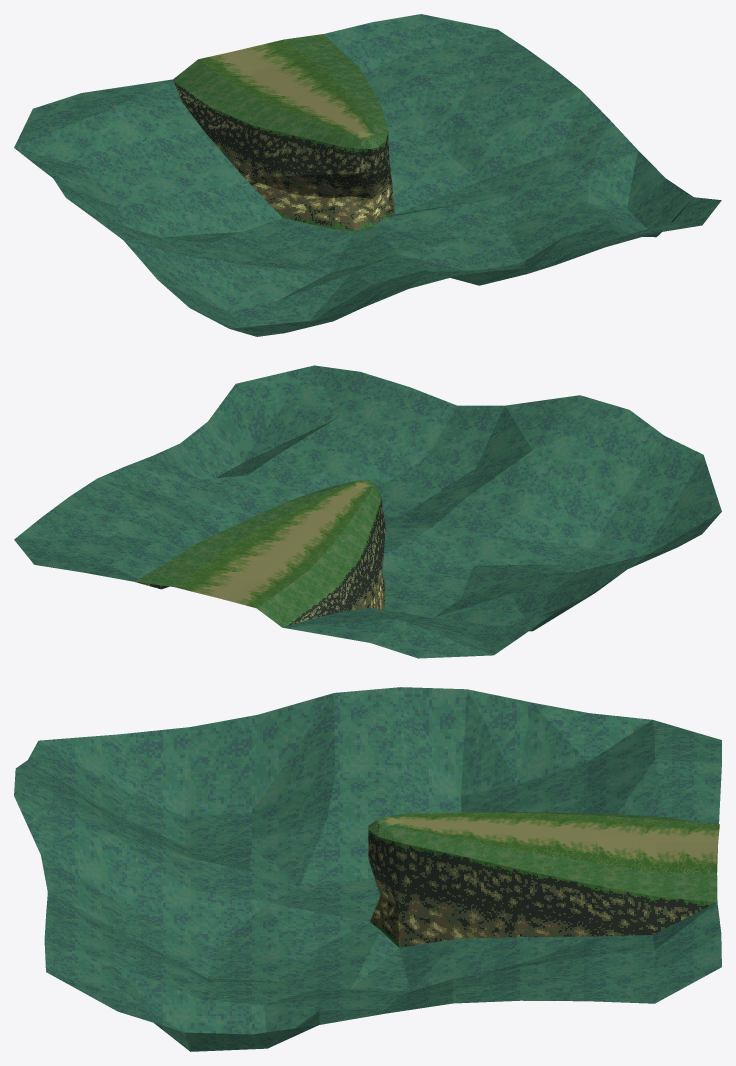
The model's file is mountain_link.obj.
3 renders of one model, top to bottom at view 1: azimuth 30°, elevation 25°; view 2: azimuth 150°, elevation 25°; view 3: azimuth 270°, elevation 25°, orthographic. The views are drawn at different scales.
Parts seen in each view (by area): view 1: grass_bottom, rock, way, grass_top; view 2: grass_bottom, way, grass_top, rock; view 3: grass_bottom, rock, way, grass_top.
Boxes of the visible parts, bbox=[...] form: grass_bottom: bbox=[14, 14, 721, 336]; rock: bbox=[173, 80, 395, 230]; way: bbox=[198, 39, 372, 135]; grass_top: bbox=[173, 34, 387, 148]; grass_bottom: bbox=[14, 365, 721, 658]; way: bbox=[175, 485, 370, 608]; grass_top: bbox=[134, 480, 380, 627]; rock: bbox=[135, 492, 385, 627]; grass_bottom: bbox=[14, 687, 721, 1051]; rock: bbox=[368, 830, 716, 947]; way: bbox=[401, 812, 719, 873]; grass_top: bbox=[368, 812, 717, 902].
Bounding box in the file's own units: 734 × 128 × 735.
5 materials, 5 textured.
